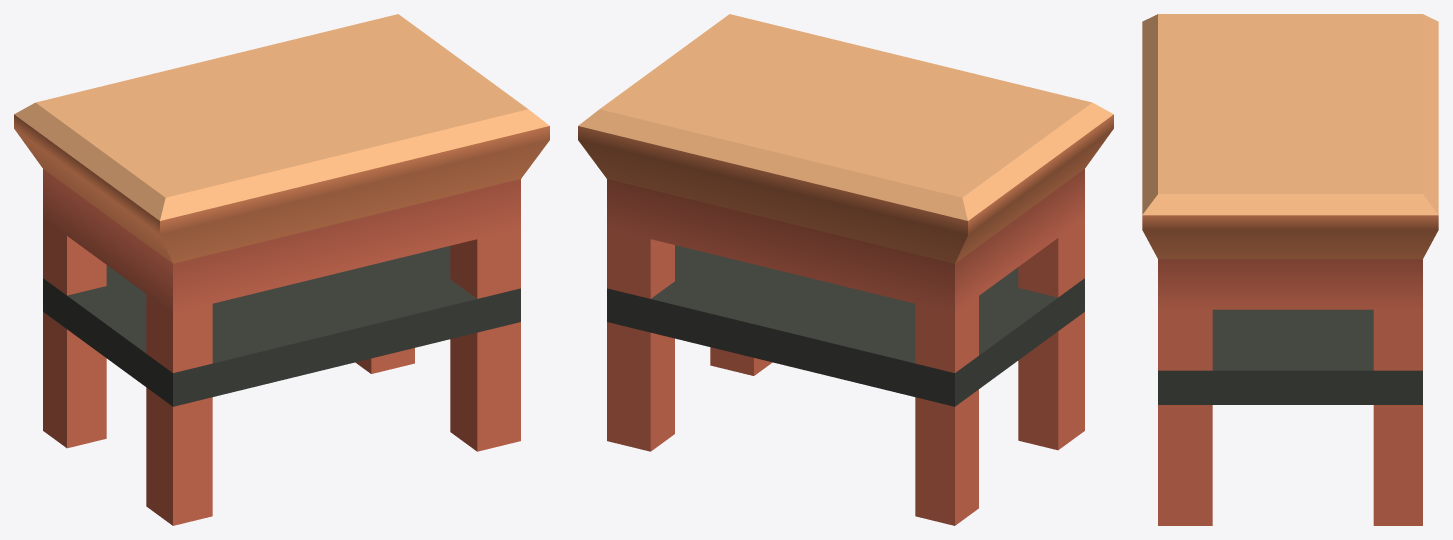
File: Shrine.fbx
3 views of the same model, side by side, from view 1: azimuth 30°, elevation 25°; view 2: azimuth 150°, elevation 25°; view 3: azimuth 270°, elevation 25° (orthographic).
Visible parts, largest first — view 1: pCube3; view 2: pCube3; view 3: pCube3.
Part boxes in pixels (box(x1,y1,x2,y2)): pCube3: box(14, 14, 549, 525); pCube3: box(578, 14, 1113, 525); pCube3: box(1142, 14, 1438, 525).
Size of the model in its own units: 136 by 110 by 87.86.
